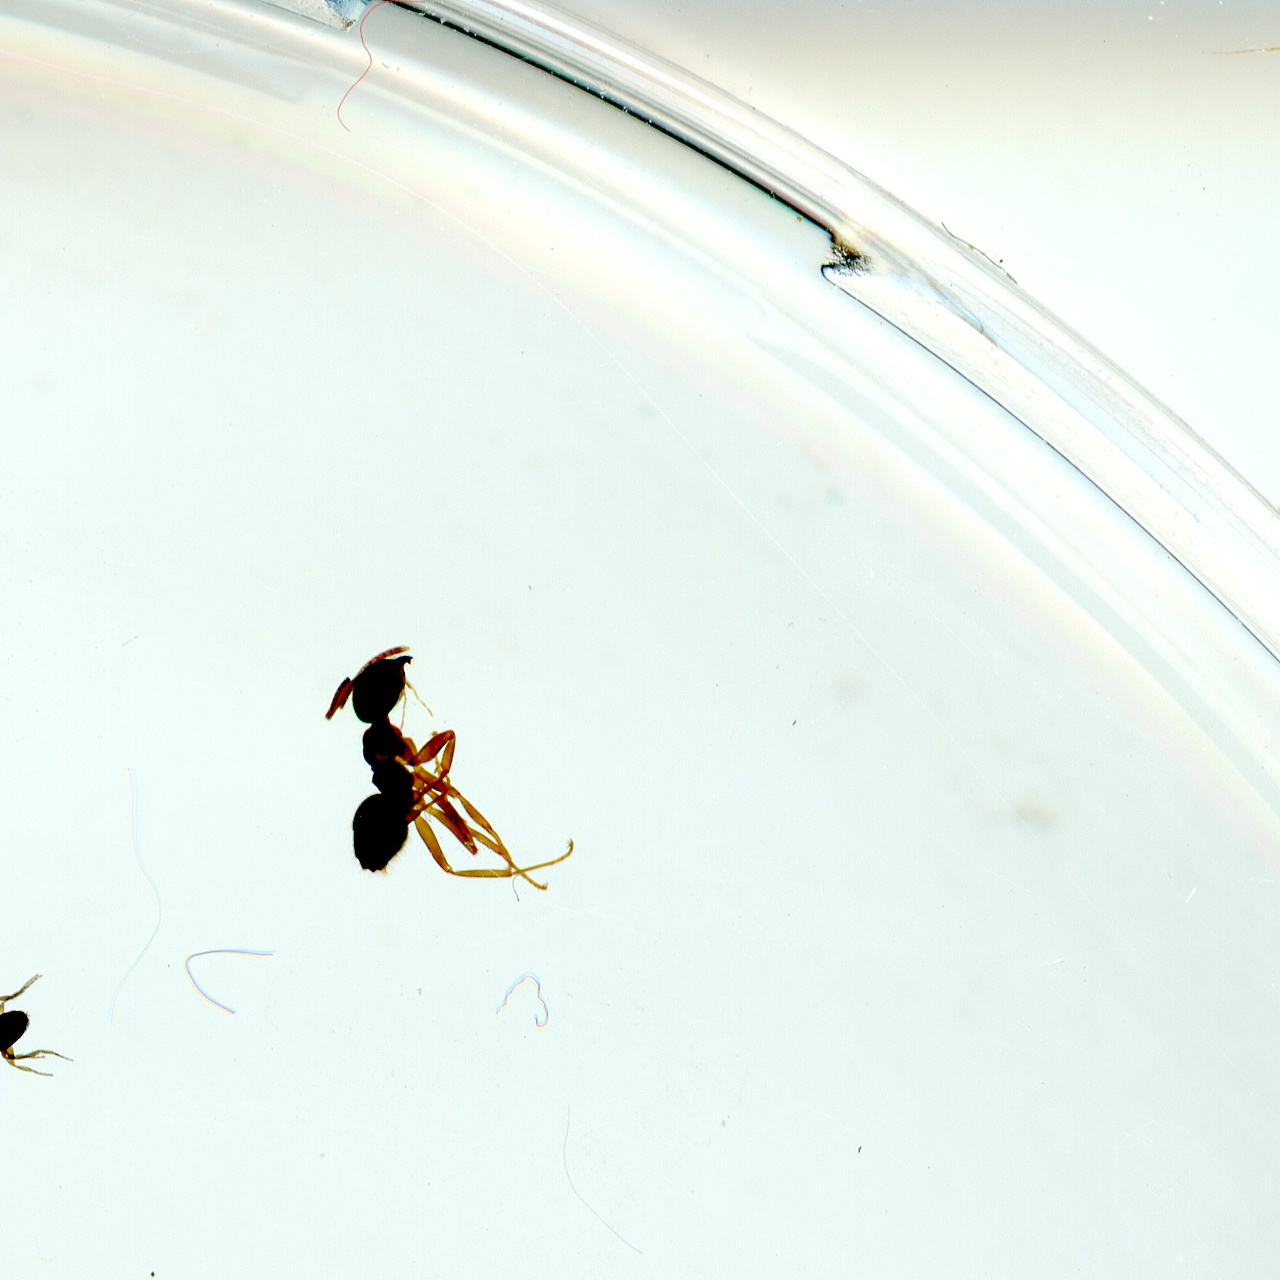arthropod: (266, 600, 597, 971), (0, 955, 88, 1118)
